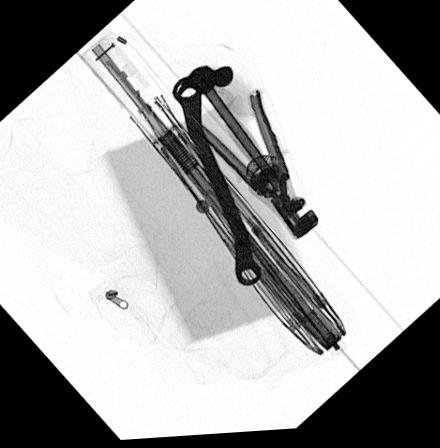Hammer: (173, 65, 288, 201)
Pliers: (184, 85, 322, 249)
Wrench: (169, 76, 266, 294)
